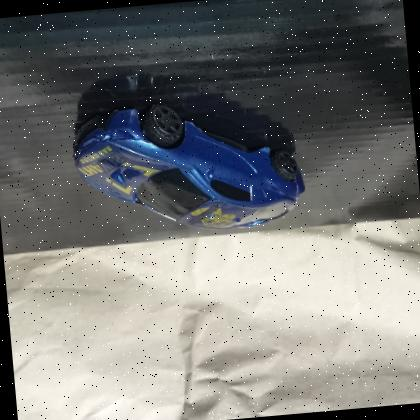Car: (63, 85, 316, 247)
